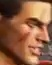kevin: (2, 0, 49, 64)
